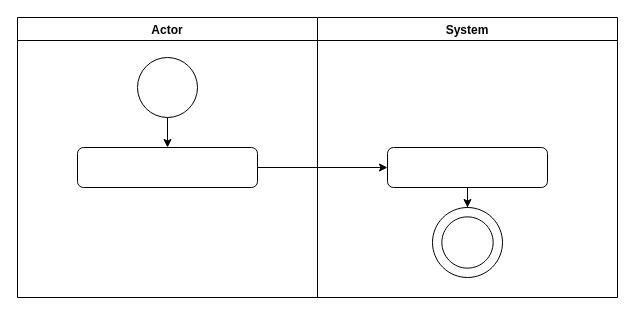
The diagram is 635 pixels wide and 315 high, and some of its shapes have lost their labels. Here are the shapes that lost their labels. From the top down, the centre of each, then its label:
(x=167, y=167): เลือกเมนู "ตั้งค่าระบบ" และ เลือก "ดูประวัติการใช้งานระบบ"
(x=467, y=167): แสดงตารางข้อมูล Log การใช้งาน พร้อมตัวกรองการค้นหา
